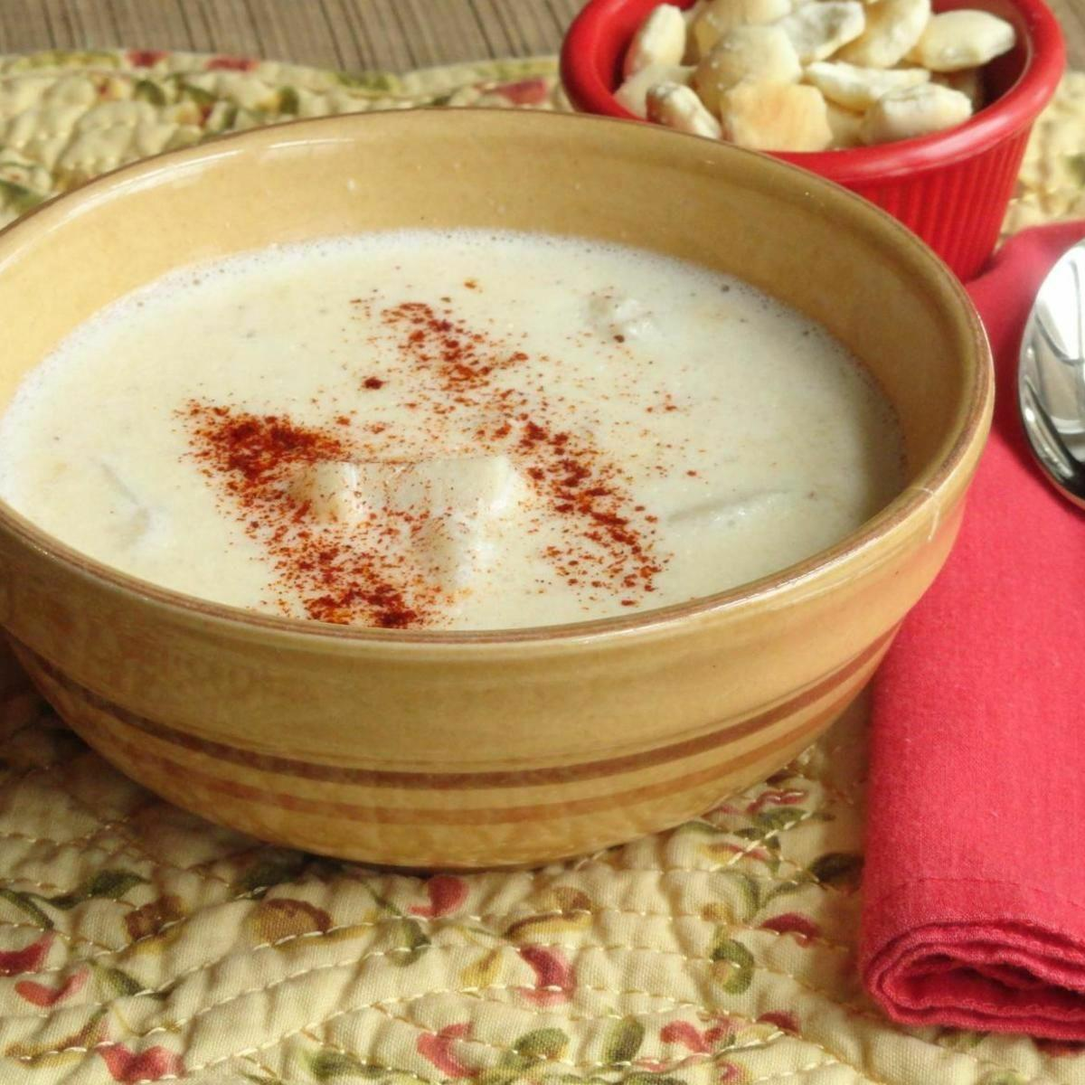Kheer: (10, 246, 895, 625)
